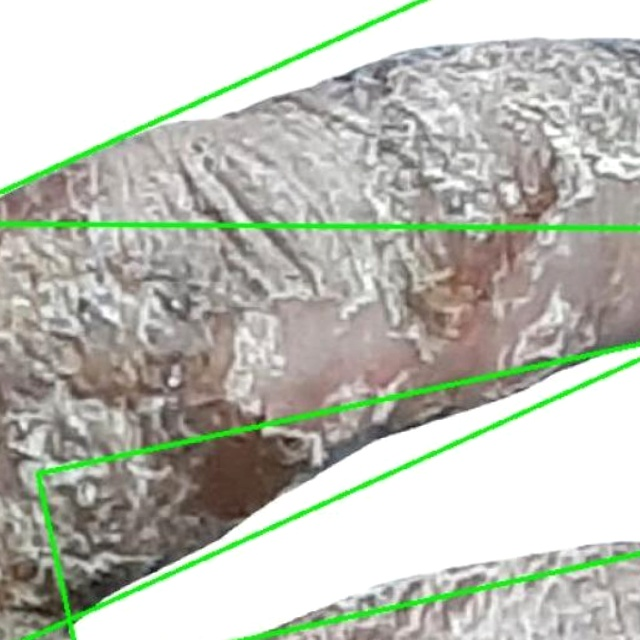Eczema: (0, 0, 639, 639), (35, 335, 639, 639), (0, 0, 639, 228)
